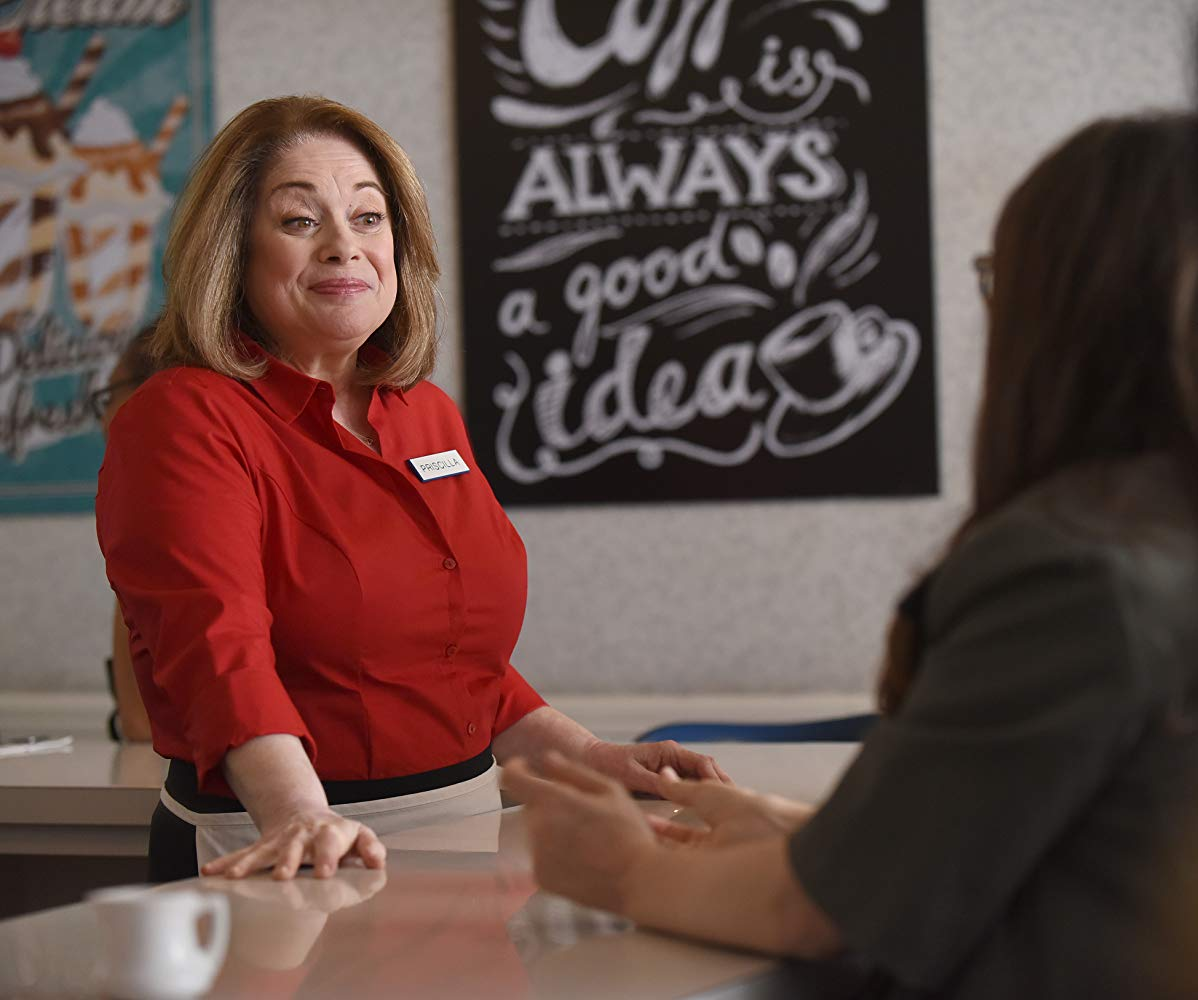person: (526, 116, 1195, 996), (84, 88, 741, 918)
